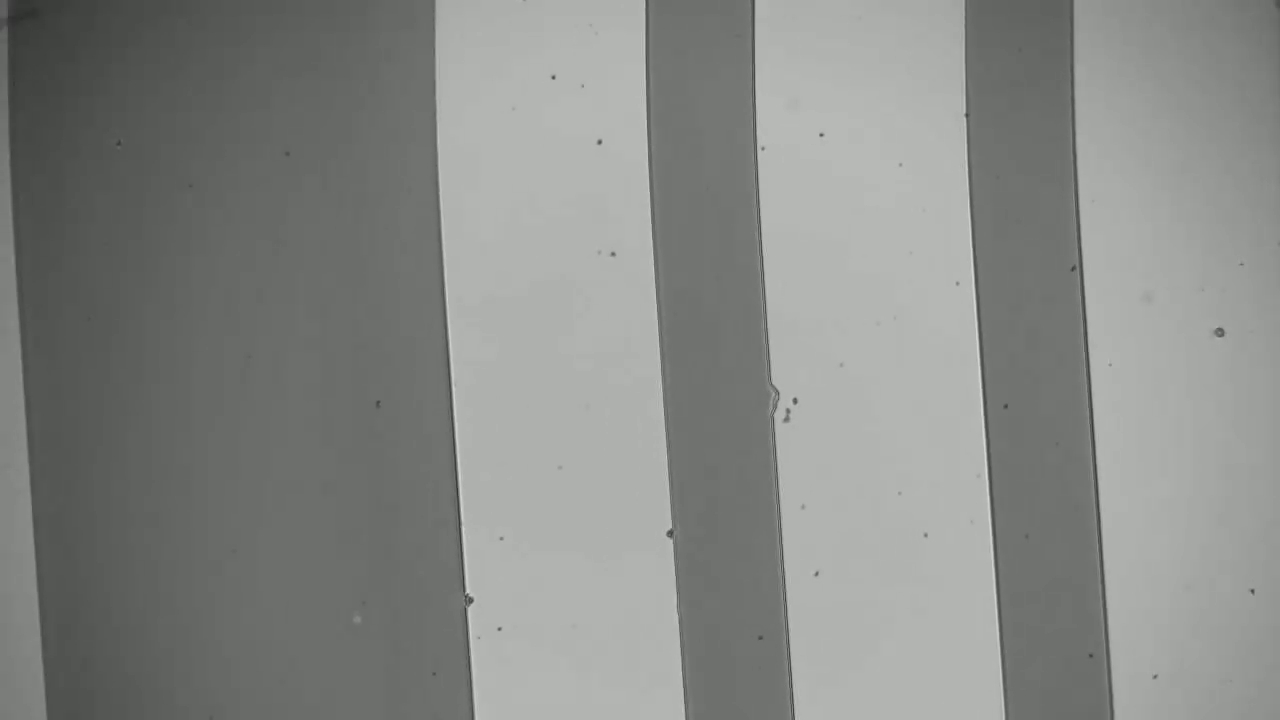edge_bite: (758, 377, 791, 427)
